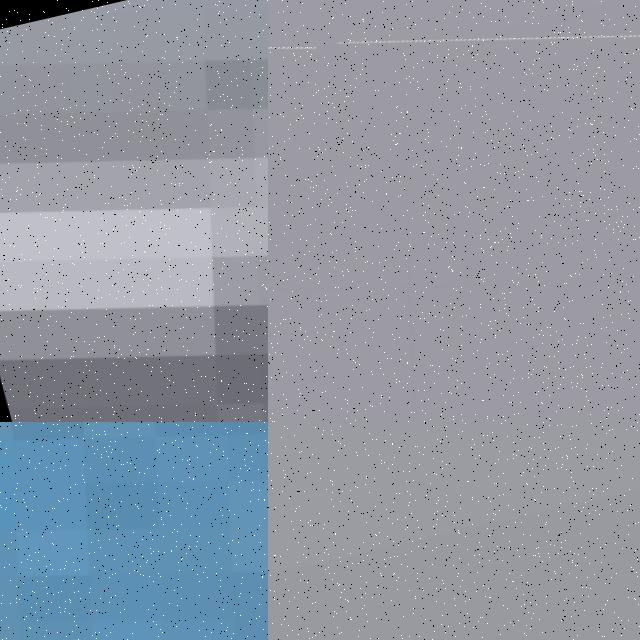drone: (268, 0, 640, 422), (0, 0, 268, 422), (0, 422, 268, 640)
